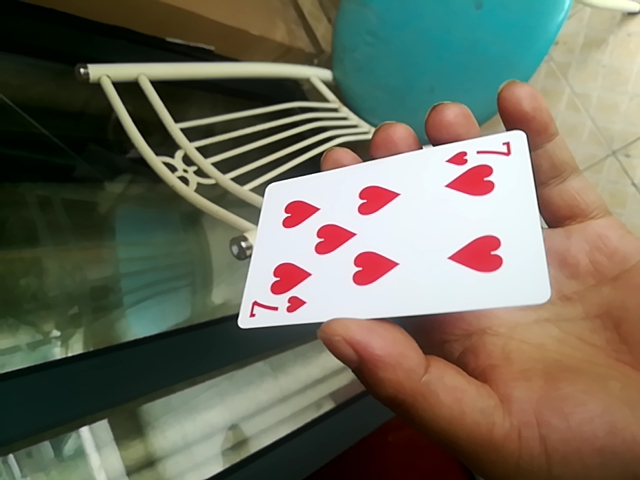hx 7: (232, 127, 550, 335)
